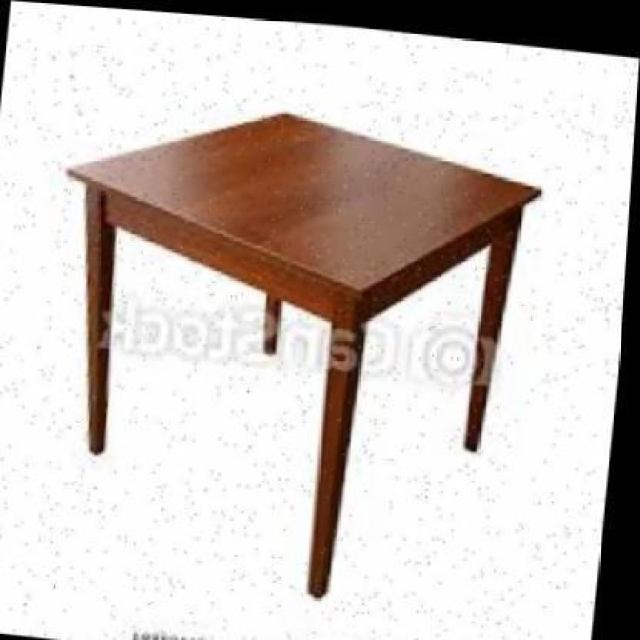tables: (64, 110, 542, 598)
